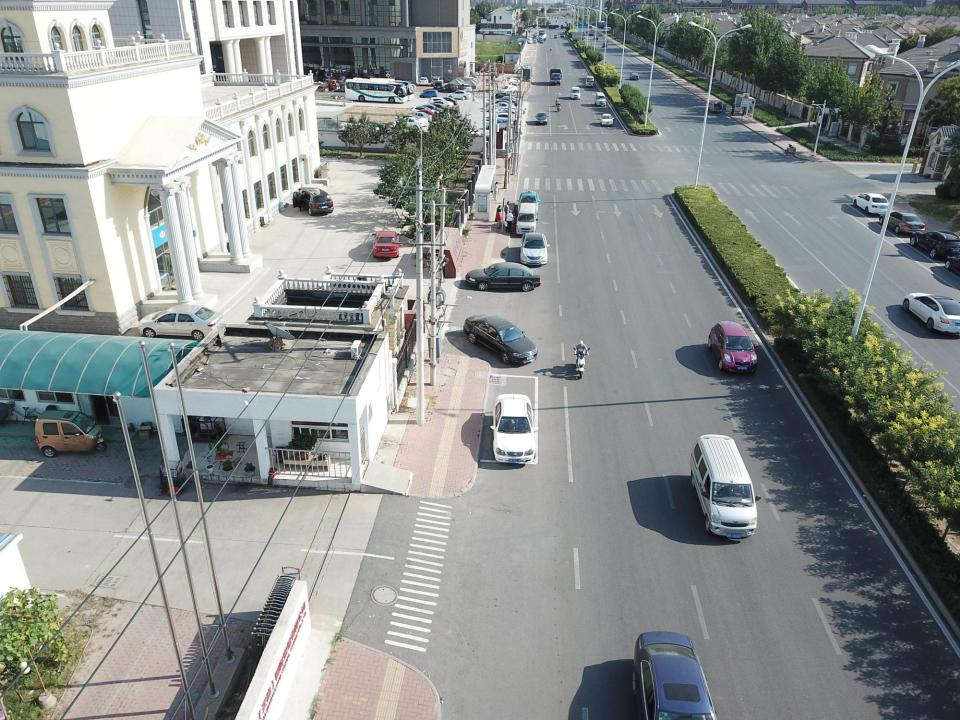bus: (349, 77, 414, 101), (344, 78, 408, 102)
car: (630, 628, 716, 720), (689, 431, 759, 540), (463, 312, 538, 364), (138, 300, 224, 340), (493, 392, 537, 469), (708, 320, 758, 376), (465, 260, 541, 293), (903, 292, 960, 336), (910, 229, 960, 262), (878, 210, 926, 234), (293, 187, 333, 214), (520, 232, 548, 266), (853, 192, 890, 216), (373, 229, 399, 259), (518, 190, 540, 211), (394, 114, 429, 127), (393, 118, 423, 129), (404, 112, 433, 123), (409, 106, 437, 117), (416, 104, 444, 115), (409, 109, 435, 120), (428, 97, 454, 108), (425, 100, 452, 110), (446, 90, 472, 100), (435, 96, 458, 106), (599, 113, 614, 126), (534, 112, 549, 124), (419, 89, 439, 98), (594, 92, 606, 106), (506, 76, 522, 85), (498, 85, 516, 93), (571, 86, 580, 100), (584, 75, 594, 87), (444, 84, 458, 92), (431, 77, 444, 85), (629, 71, 639, 80), (433, 81, 443, 90), (314, 85, 329, 91), (460, 83, 472, 90), (419, 76, 428, 85), (532, 38, 537, 44), (527, 37, 532, 43), (539, 39, 544, 43), (560, 33, 564, 37), (533, 35, 537, 39), (554, 34, 557, 37)
truck: (313, 77, 340, 92), (549, 66, 562, 86), (538, 28, 545, 37), (592, 32, 599, 40), (588, 29, 594, 35)
van: (516, 200, 537, 233)
